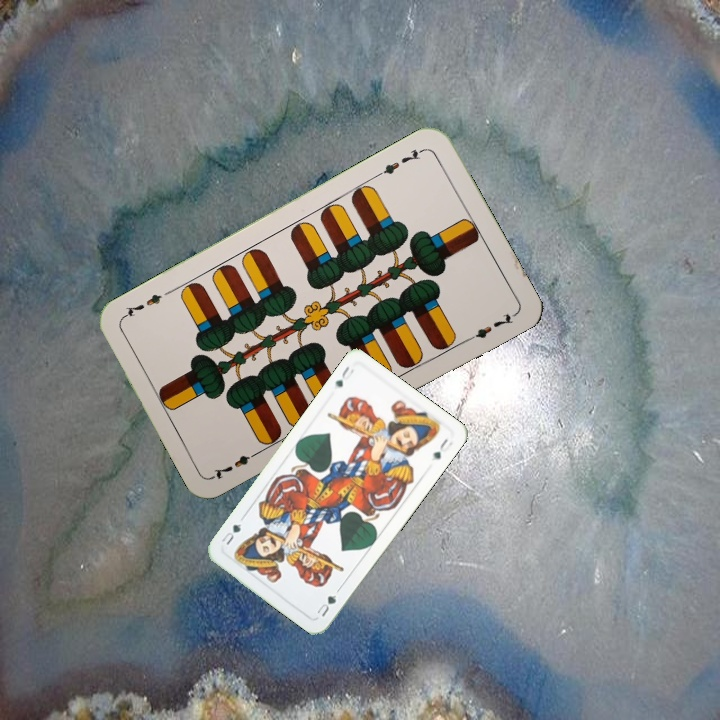E7: (209, 446, 264, 482), (373, 144, 427, 179)
GU: (330, 362, 357, 390), (313, 591, 339, 619)
